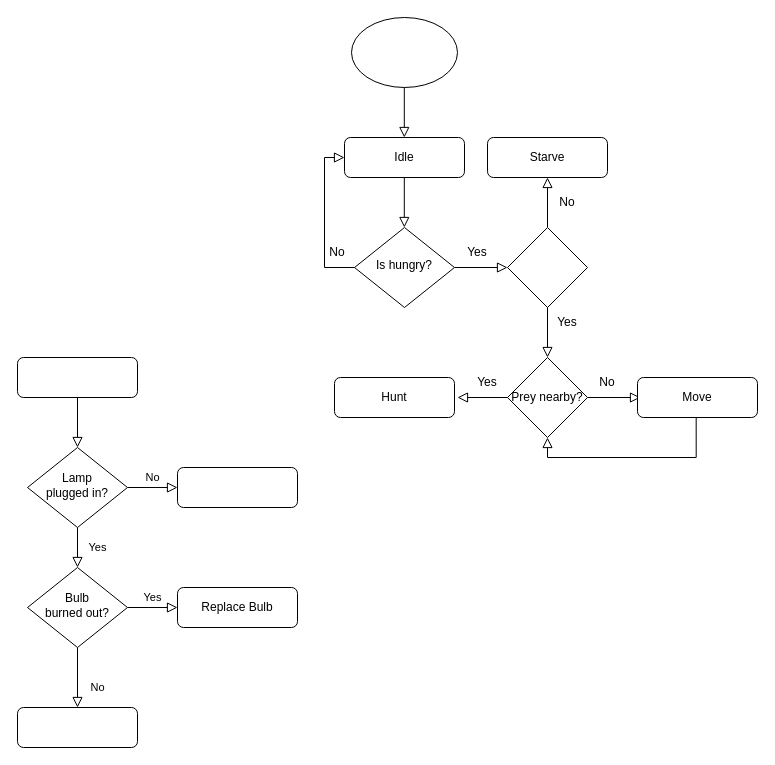
Image size: 775x765. Some labels were removed from this diagram. Each missing label, with the box of its shape:
Has energy?: (506, 226, 588, 308)
Lamp doesn't work: (16, 356, 138, 398)
Plug in lamp: (176, 466, 298, 508)
Repair Lamp: (16, 706, 138, 748)
Start: (350, 16, 458, 88)
